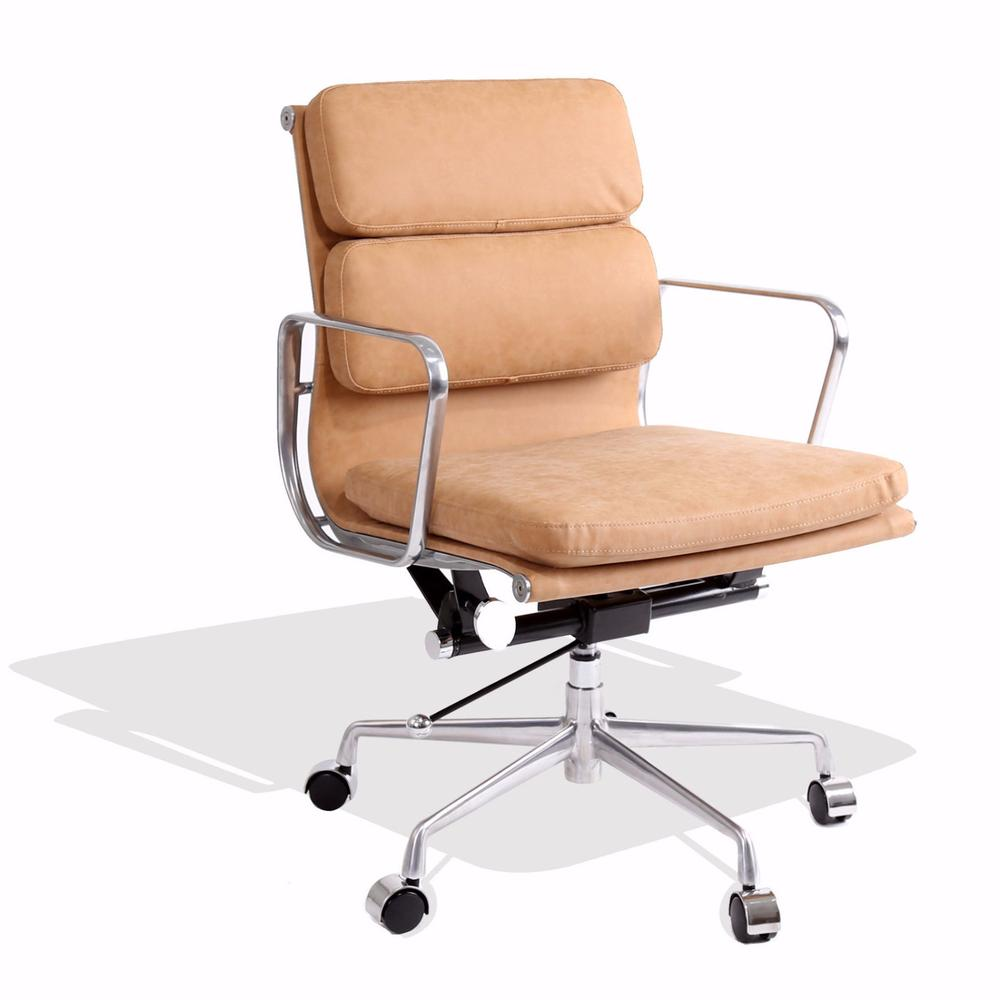chairs: (258, 80, 927, 966)
